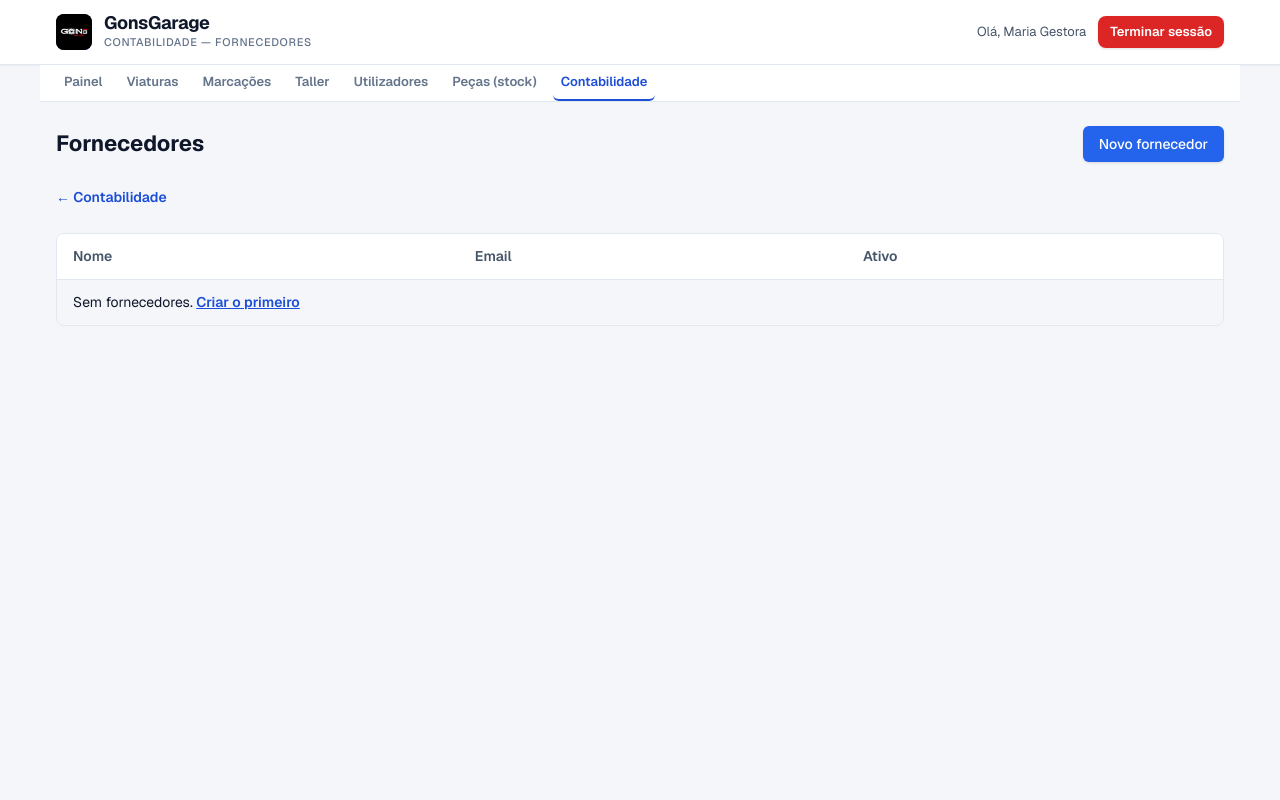
Test: SuppliersListPage create modal › opens the create dialog from the empty-state CTA
Click the button "Criar o primeiro": point(248, 302) left=196, top=292, right=300, bottom=312
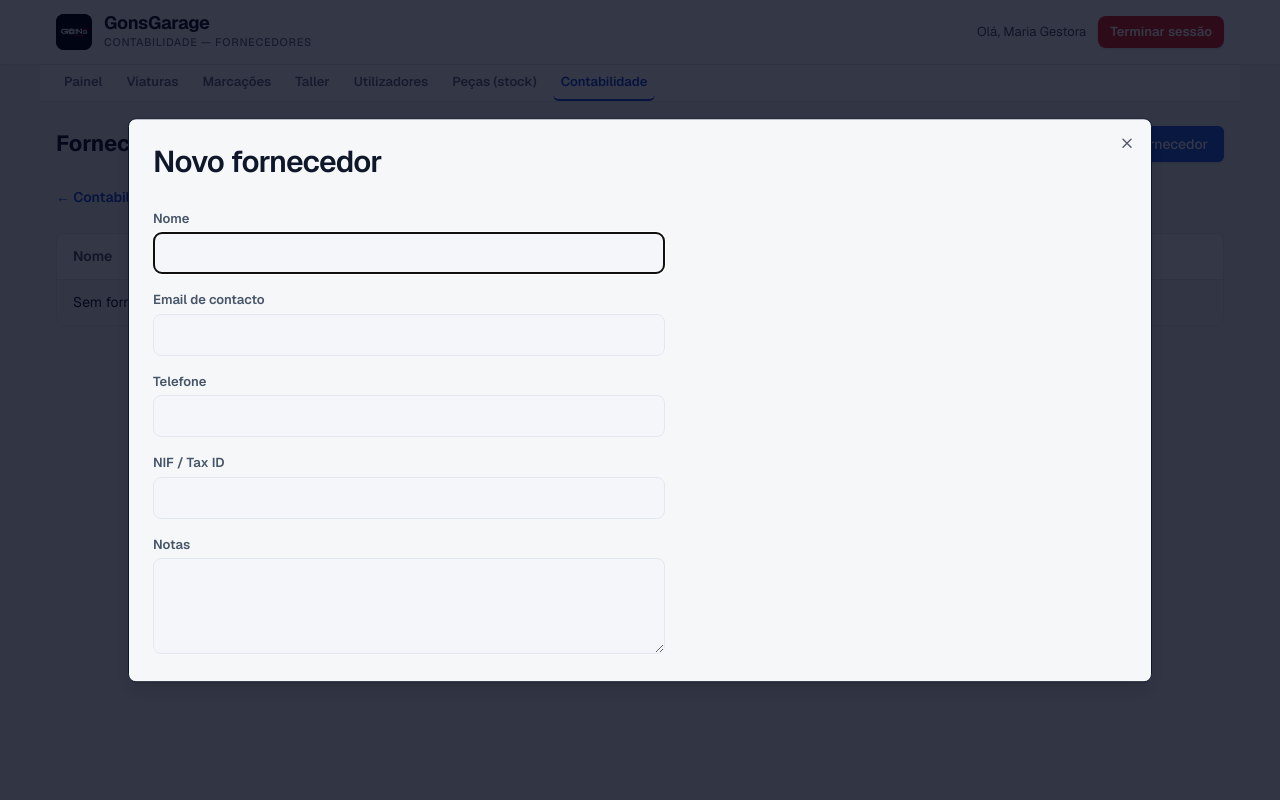
Check: the dialog is shown, box left=128, top=118, right=1152, bottom=682
Check: the heading "Novo fornecedor" is shown, box left=153, top=142, right=382, bottom=181
